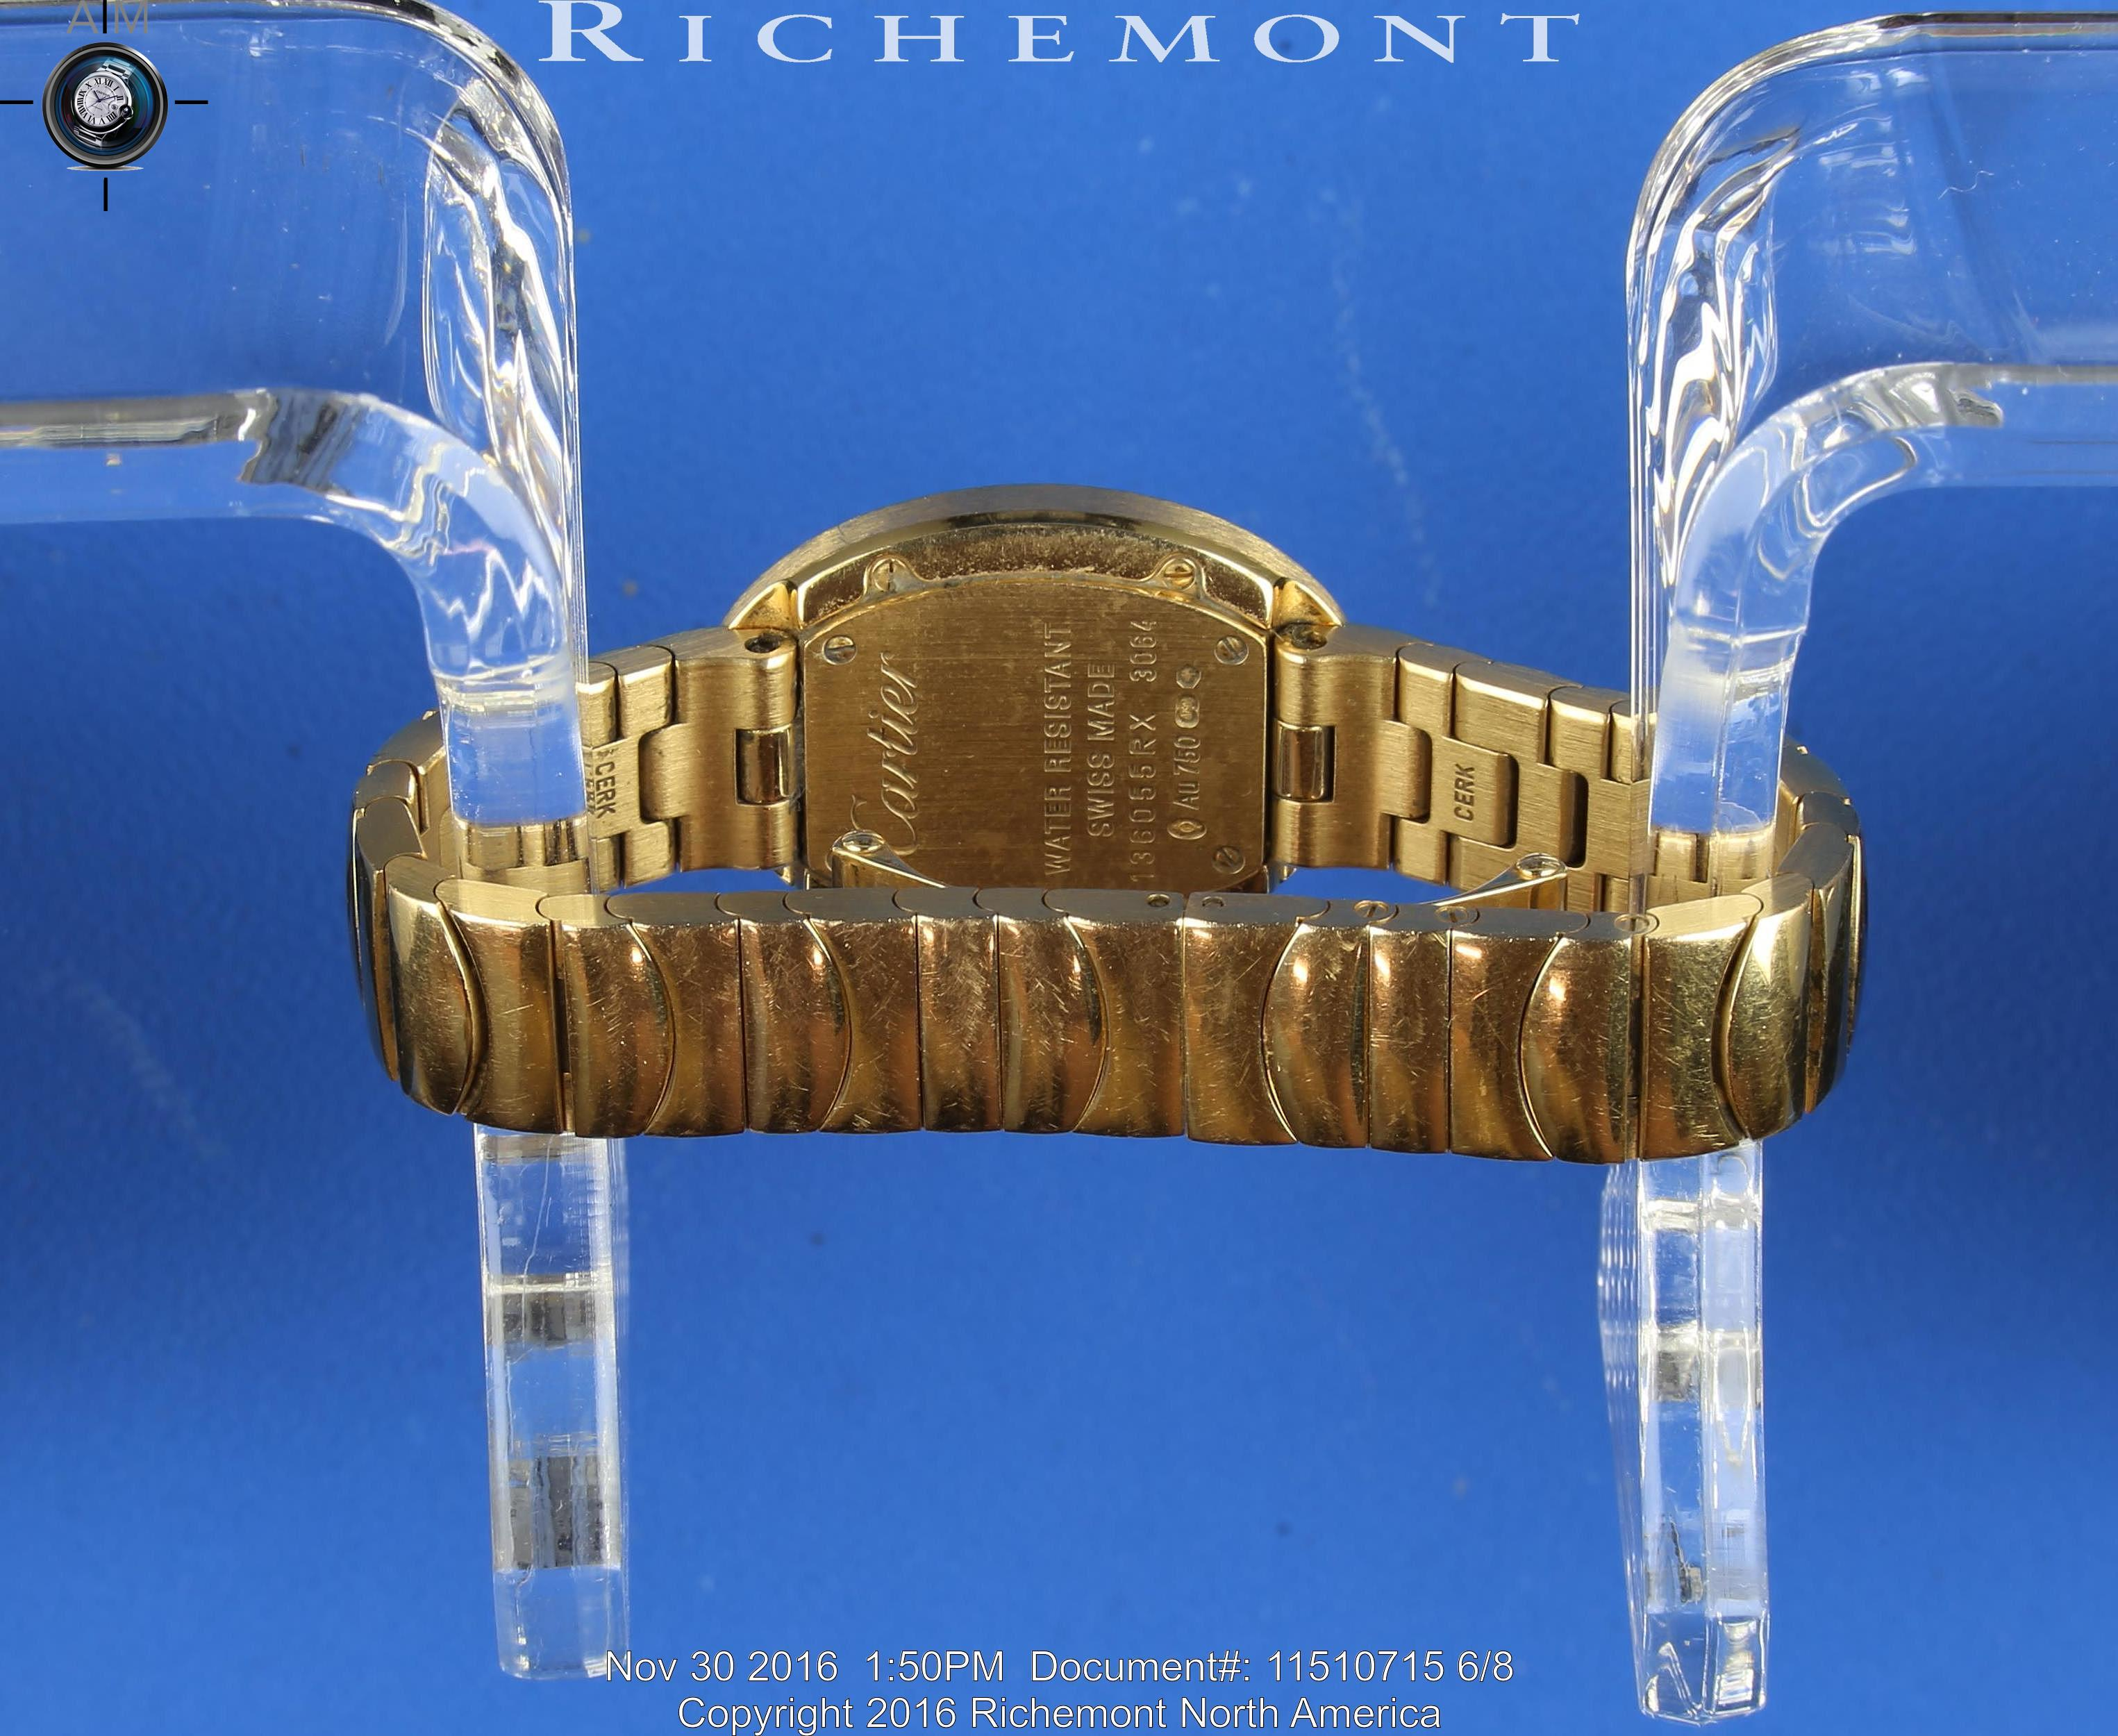Watch Back Case: (702, 478, 1367, 895)
